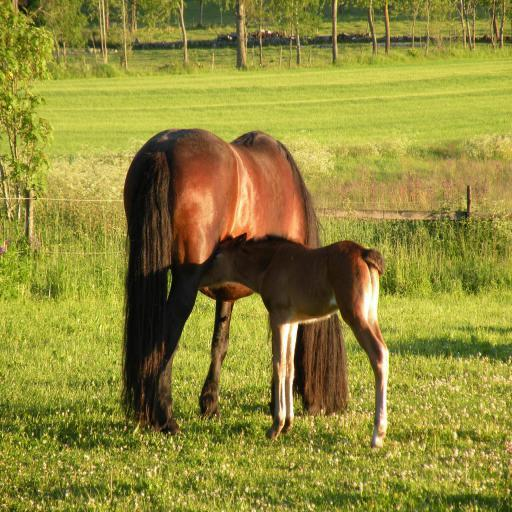Horse: (117, 128, 350, 436), (198, 230, 391, 449)
